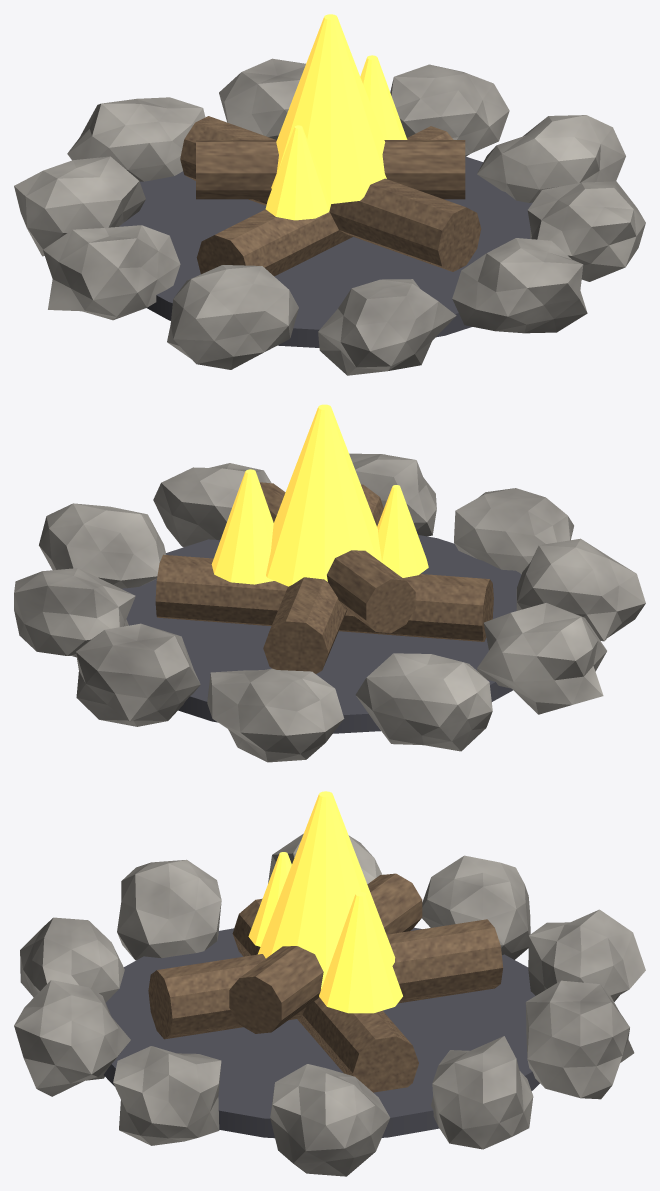
The model's file is firepit.glb.
3 renders of one model, top to bottom at view 1: azimuth 30°, elevation 25°; view 2: azimuth 150°, elevation 25°; view 3: azimuth 270°, elevation 25°, orthographic. The views are drawn at different scales.
Parts seen in each view (by area): view 1: fp_stone.009, fp_log3, fp_ash, flame, flame.002, flame.001; view 2: fp_stone.009, fp_log3, fp_ash, flame, flame.001, flame.002; view 3: fp_stone.009, fp_log3, fp_ash, flame, flame.001, flame.002.
Part boxes in pixels (left/top/right/bottom): fp_stone.009: left=14, top=58, right=645, bottom=375; fp_log3: left=180, top=116, right=481, bottom=276; fp_ash: left=119, top=156, right=532, bottom=347; flame: left=271, top=14, right=386, bottom=203; flame.002: left=265, top=125, right=330, bottom=220; flame.001: left=360, top=55, right=407, bottom=139; fp_stone.009: left=14, top=453, right=645, bottom=762; fp_log3: left=155, top=482, right=493, bottom=673; fp_ash: left=121, top=535, right=521, bottom=733; flame: left=266, top=404, right=381, bottom=586; flame.001: left=211, top=469, right=274, bottom=584; flame.002: left=377, top=485, right=428, bottom=577; fp_stone.009: left=14, top=833, right=645, bottom=1176; fp_log3: left=148, top=873, right=503, bottom=1092; fp_ash: left=104, top=927, right=539, bottom=1138; flame: left=257, top=791, right=395, bottom=988; flame.001: left=319, top=892, right=402, bottom=1013; flame.002: left=248, top=852, right=291, bottom=946.
Size of the model in its own units: 0.9756 by 0.4128 by 0.8979.
4 materials, 2 textured.
